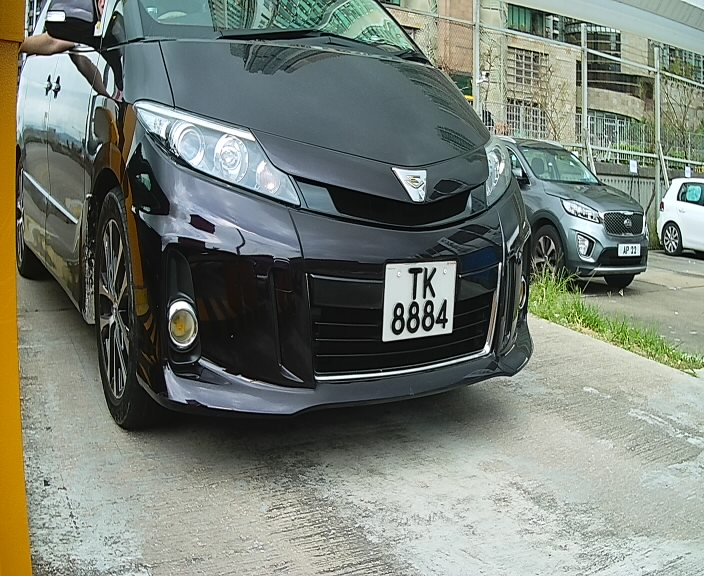Car: (2, 2, 581, 478)
License Plate: (366, 245, 480, 364)
